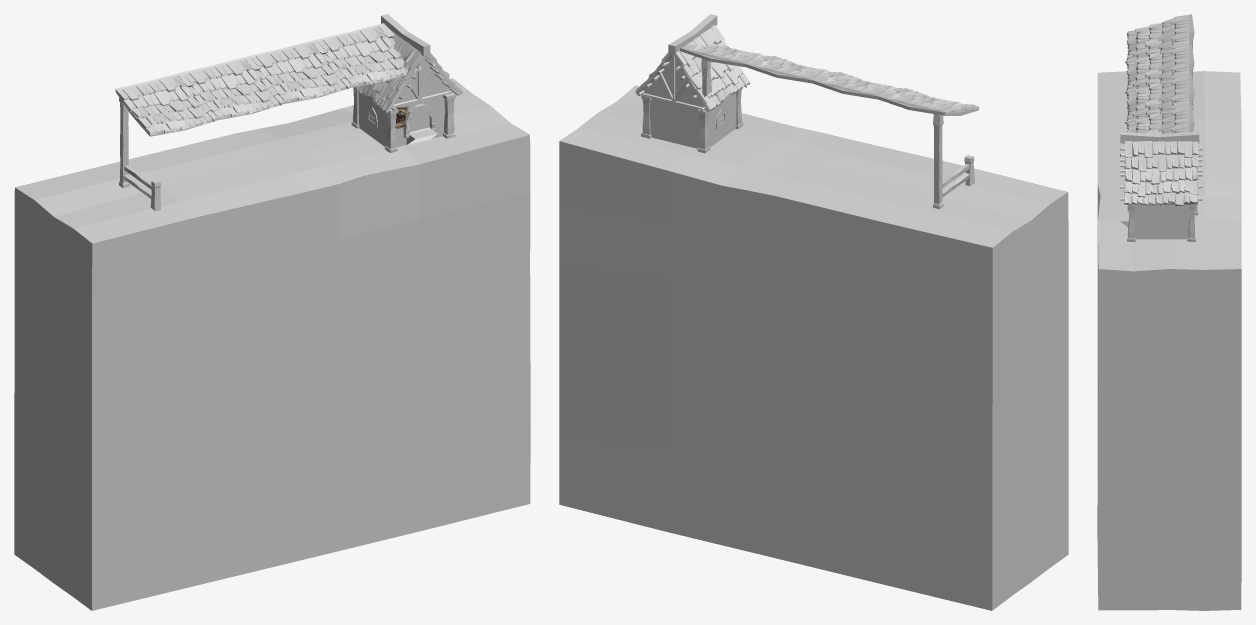
Rendered from Witchs_house.fbx.
The picture shows the model from 3 angles, left to right: view 1: azimuth 30°, elevation 25°; view 2: azimuth 150°, elevation 25°; view 3: azimuth 270°, elevation 25°; orthographic projection. The views are drawn at different scales.
Parts seen in each view (by area): view 1: platform, House, Cube.002; view 2: platform, House, Cube.002; view 3: platform, House.
Boxes of the visible parts, x1,y1,x2,y2 form: platform: (14,78,530,610); House: (115,14,463,152); Cube.002: (119,98,161,211); platform: (559,85,1068,610); House: (635,14,979,153); Cube.002: (701,59,974,209); platform: (1097,71,1241,610); House: (1120,14,1202,241).
Bounding box in the file's own units: 3644 × 3748 × 1121.
